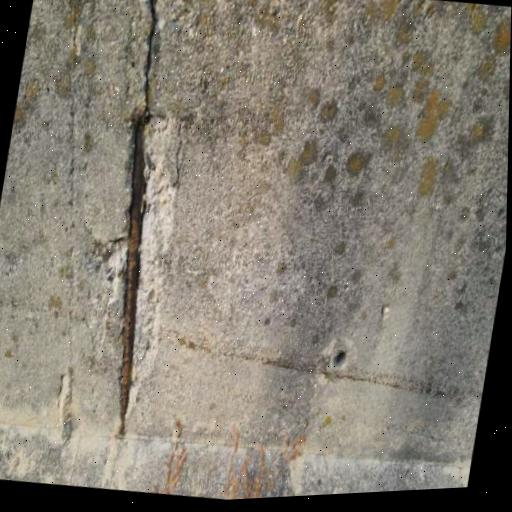exposed_rebar: (119, 118, 146, 434)
spalling: (117, 0, 181, 435)
